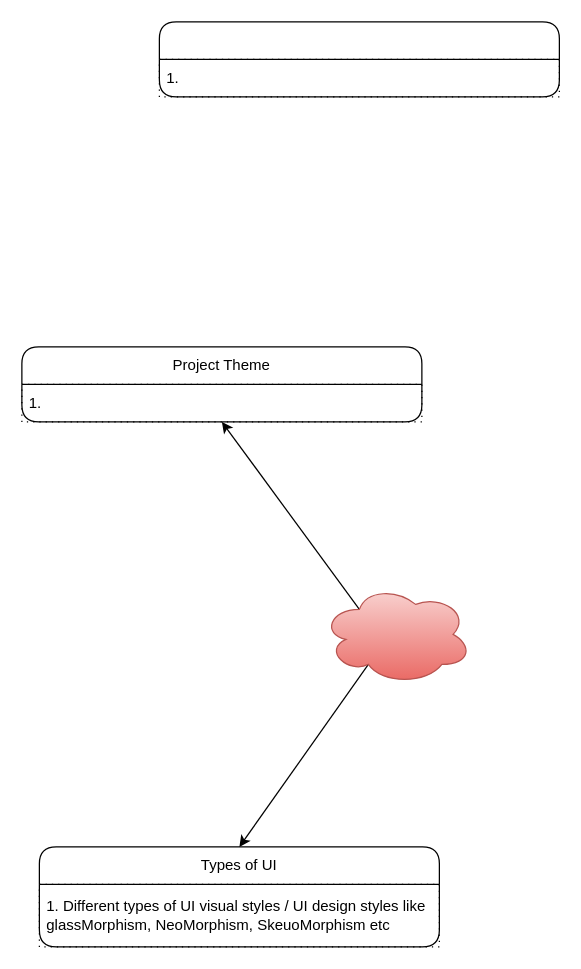
The diagram is 581 pixels wide and 969 high, and some of its shapes have lost their labels. The shapes that lost their labels are listed below. From the top down, each one's box as (x1, y1, x2, y2) in pixels, then its label:
(158, 21, 559, 97): User Interface (UI)
(321, 583, 472, 684): UI
